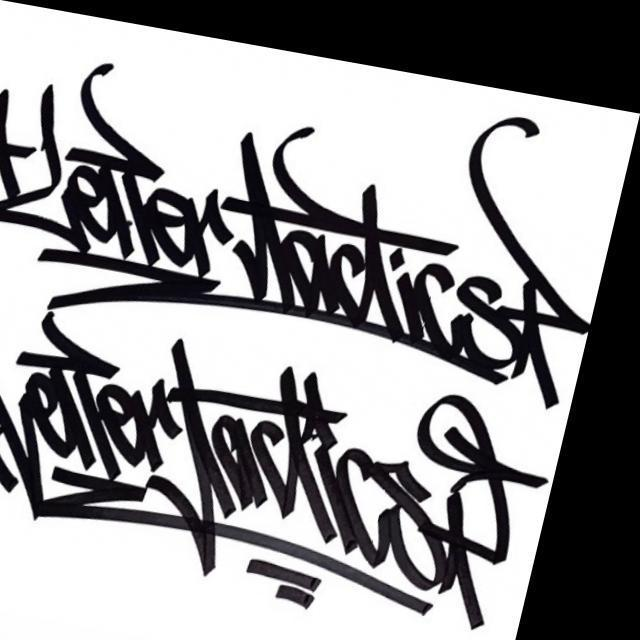-: (0, 35, 633, 640)
